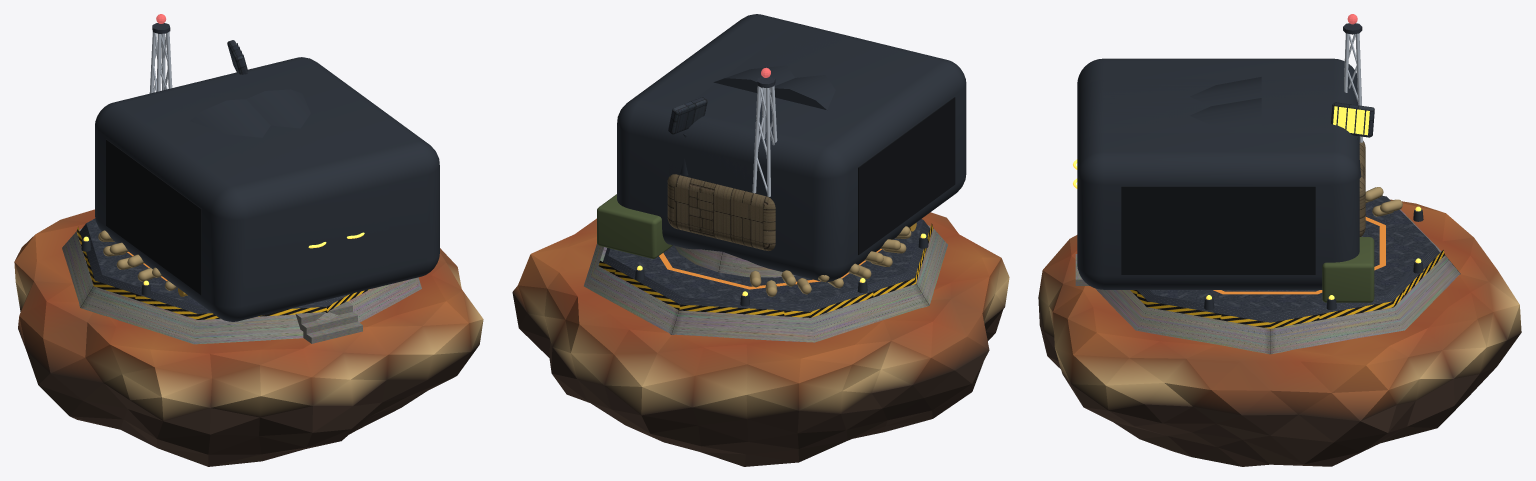
File: howitzer-L75.glb
3 renders of one model, left to right at view 1: azimuth 30°, elevation 25°; view 2: azimuth 150°, elevation 25°; view 3: azimuth 270°, elevation 25°, orthographic. The views are drawn at different scales.
Visible parts, largest first — view 1: anim:rc (×2), object 1, object 2, object 4, object 3, anim:yaw, object 22, object 23; view 2: anim:rc (×2), object 1, object 2, object 4, anim:yaw, object 45, object 3, object 49, anim:rot, object 5; view 3: anim:rc (×2), object 1, object 2, object 4, object 45, object 3, anim:yaw, anim:rot, object 5.
Boxes of the visible parts, box(x1,y1,x2,y2) form: anim:rc (×2): box(95, 57, 439, 321); object 1: box(14, 209, 483, 466); object 2: box(62, 228, 421, 344); object 4: box(80, 218, 349, 313); object 3: box(76, 227, 369, 319); anim:yaw: box(149, 14, 172, 93); object 22: box(303, 321, 362, 343); object 23: box(298, 311, 357, 333); anim:rc (×2): box(617, 14, 966, 282); object 1: box(512, 212, 1009, 466); object 2: box(584, 225, 947, 342); object 4: box(603, 219, 929, 311); anim:yaw: box(667, 67, 777, 250); object 45: box(597, 194, 672, 258); object 3: box(598, 223, 933, 317); object 49: box(674, 245, 794, 277); anim:rot: box(668, 97, 707, 134); object 5: box(659, 249, 881, 289); anim:rc (×2): box(1073, 58, 1359, 289); object 1: box(1038, 199, 1521, 466); object 2: box(1095, 209, 1460, 354); object 4: box(1137, 195, 1439, 322); object 45: box(1322, 237, 1374, 302); object 3: box(1130, 250, 1444, 328); anim:yaw: box(1343, 14, 1365, 236); anim:rot: box(1331, 102, 1374, 137); object 5: box(1213, 217, 1385, 294).
Size of the model in its own units: 5.61 by 4.87 by 5.58.
16 materials, 5 textured.
